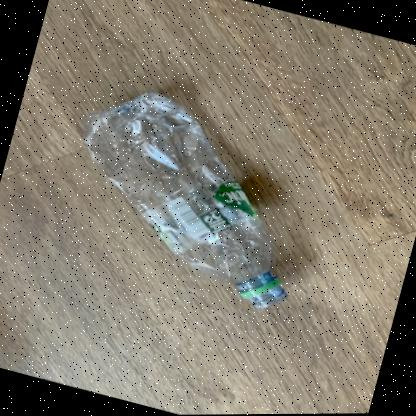Plastic: (83, 92, 287, 309)
